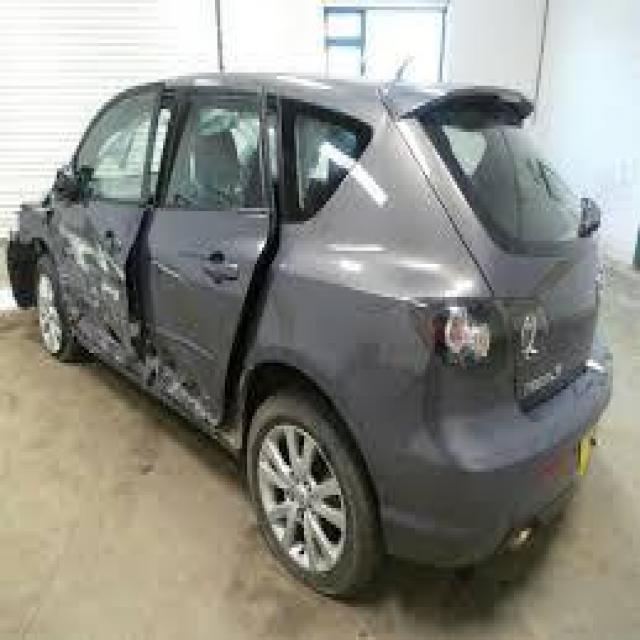damaged: (49, 214, 222, 436)
